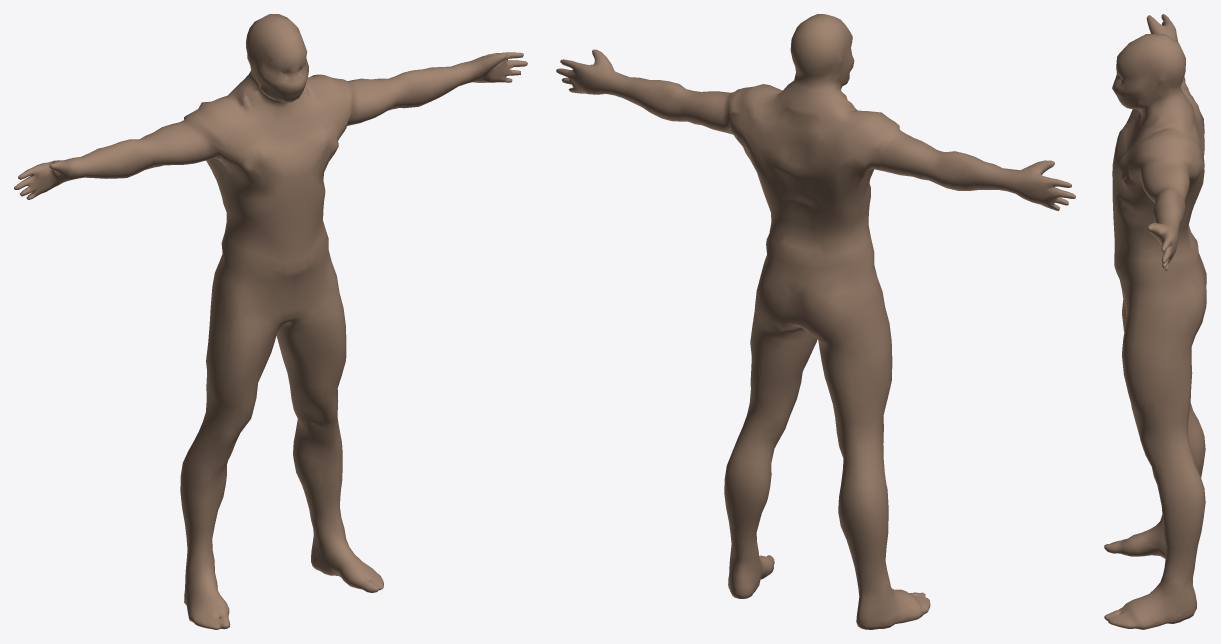
Rendered from zombie_lowF.fbx.
3 renders of one model, left to right at view 1: azimuth 30°, elevation 25°; view 2: azimuth 150°, elevation 25°; view 3: azimuth 270°, elevation 25°, orthographic. The views are drawn at different scales.
Visible parts, largest first — view 1: Zombie002; view 2: Zombie002; view 3: Zombie002.
Boxes of the visible parts, left/top/right/bottom form: Zombie002: left=14, top=14, right=527, bottom=629; Zombie002: left=556, top=14, right=1075, bottom=629; Zombie002: left=1104, top=14, right=1206, bottom=629.
Bounding box in the file's own units: 160 × 172 × 28.87.
